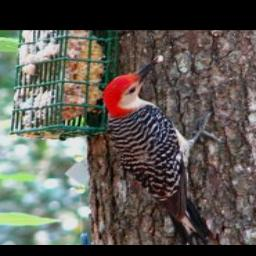Woodpecker: (104, 55, 228, 243)
